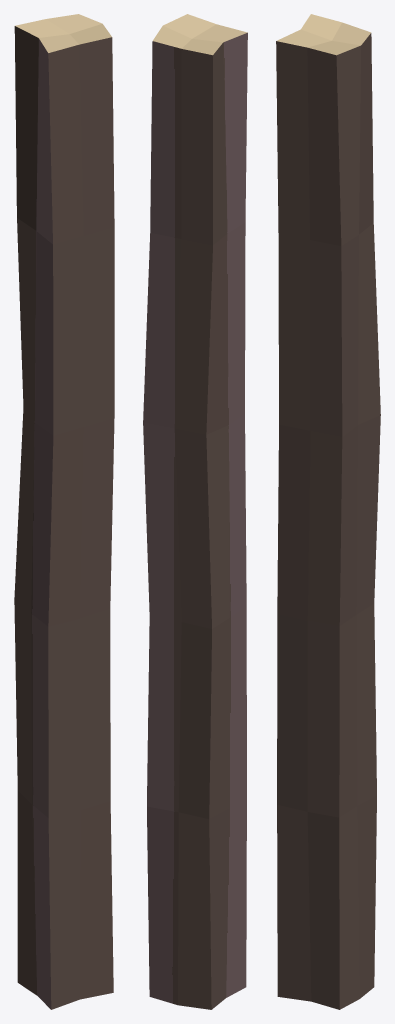
Rendered from Beam_04.fbx.
3 renders of one model, left to right at view 1: azimuth 30°, elevation 25°; view 2: azimuth 150°, elevation 25°; view 3: azimuth 330°, elevation 25°, orthographic.
Parts seen in each view (by area): view 1: Beam_04; view 2: Beam_04; view 3: Beam_04.
Part boxes in pixels (x1=…): Beam_04: x1=14, y1=14, x2=114, y2=1009; Beam_04: x1=143, y1=14, x2=247, y2=1009; Beam_04: x1=276, y1=14, x2=380, y2=1009.
Bounding box in the file's own units: 28.98 × 377 × 26.96.
1 material, 1 textured.
